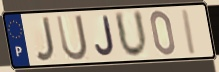0: (148, 9, 177, 58)
I: (180, 8, 199, 57)
J: (34, 15, 57, 63), (94, 15, 116, 58)
U: (112, 9, 150, 60), (54, 13, 90, 62)
